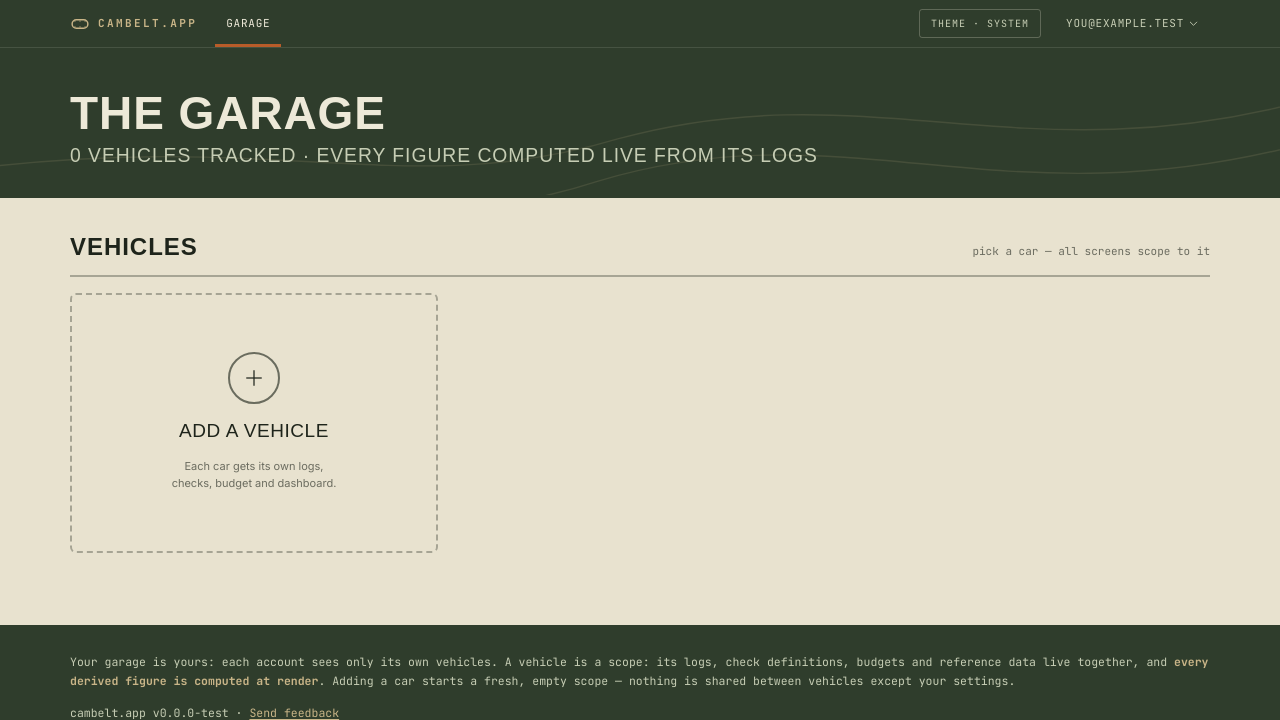
Test case: the add-vehicle sheet › hides the lookup entirely on a deployment with no DVLA credential
Click the button "Add a vehicle".
click(254, 422)  # box [70,292,438,552]
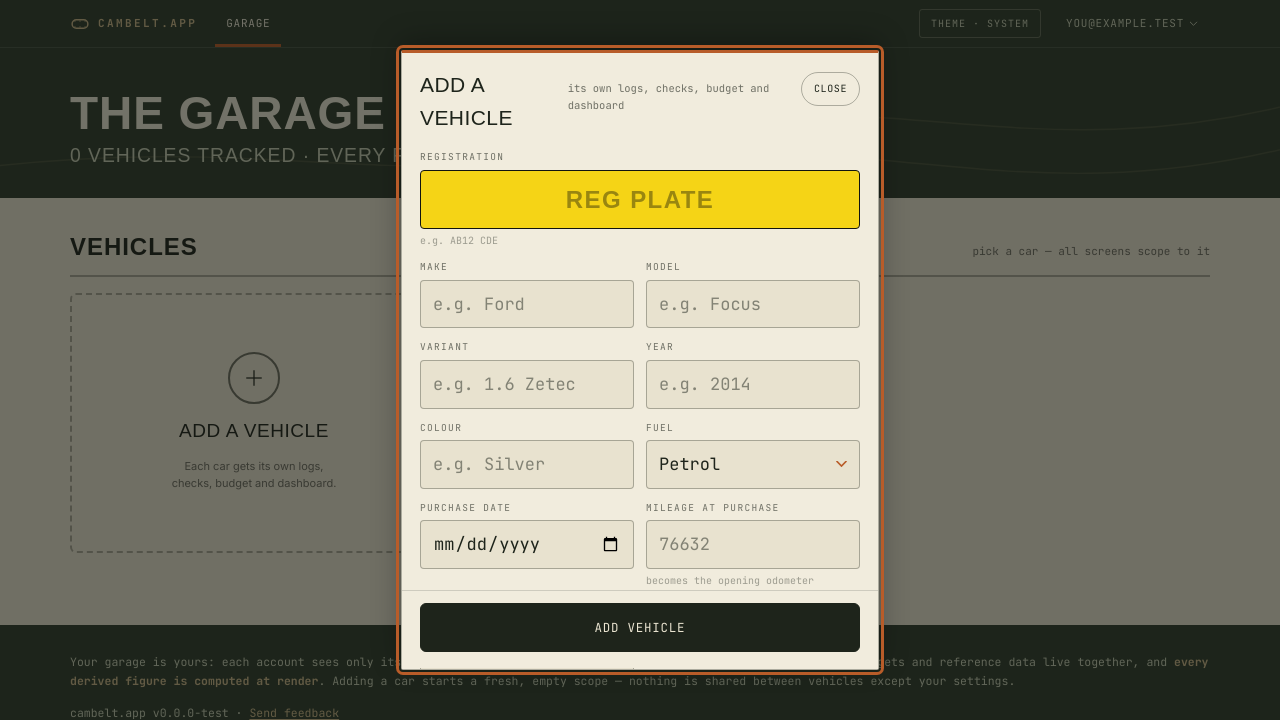
Expected: the field with placeholder "REG PLATE" is enabled, [420,170,860,229]
Expected: the button "Add vehicle" is shown, [420,603,860,653]
